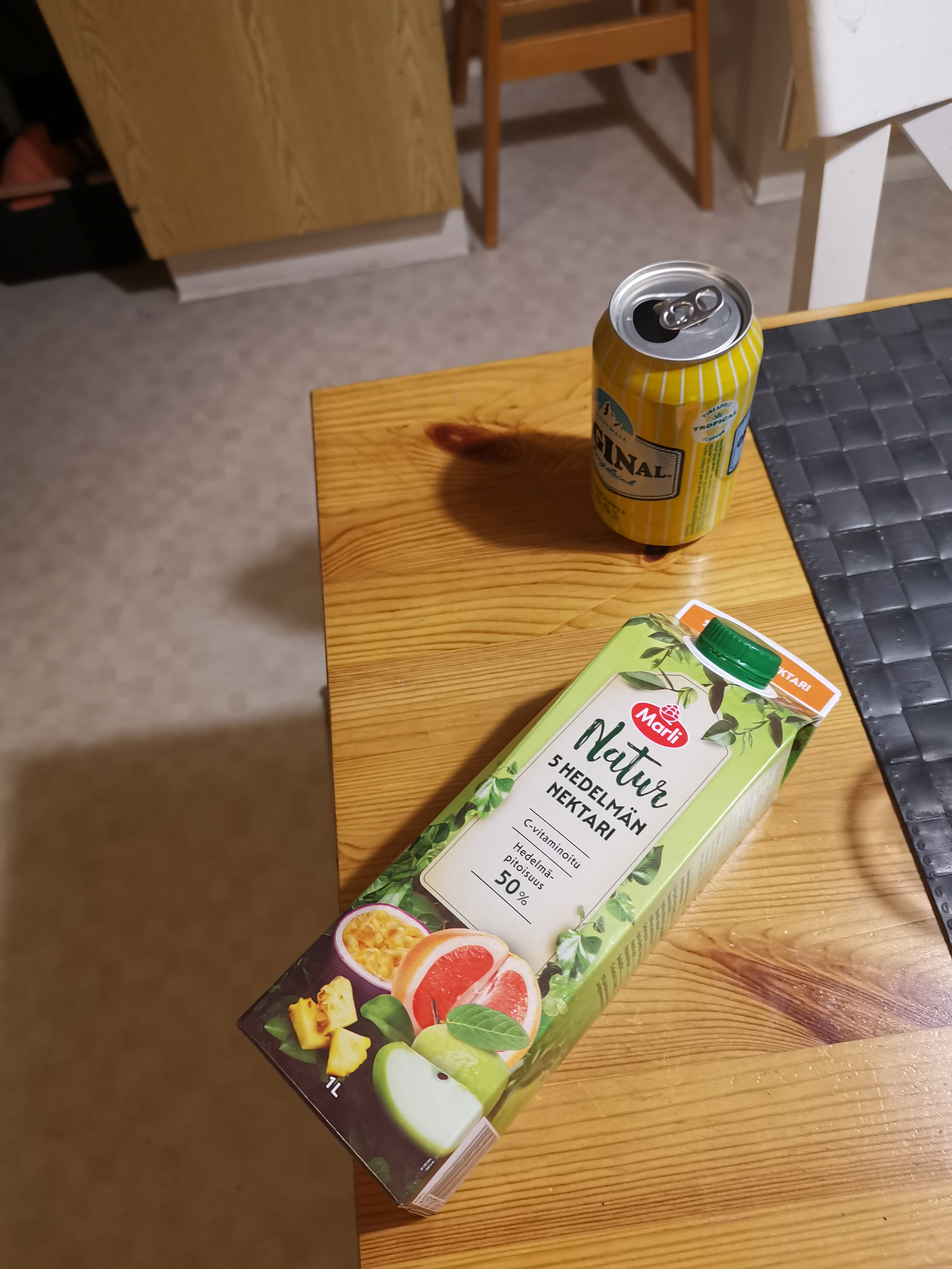Dryckeskartong: (232, 598, 845, 1221)
Pantburk: (586, 256, 766, 550)
